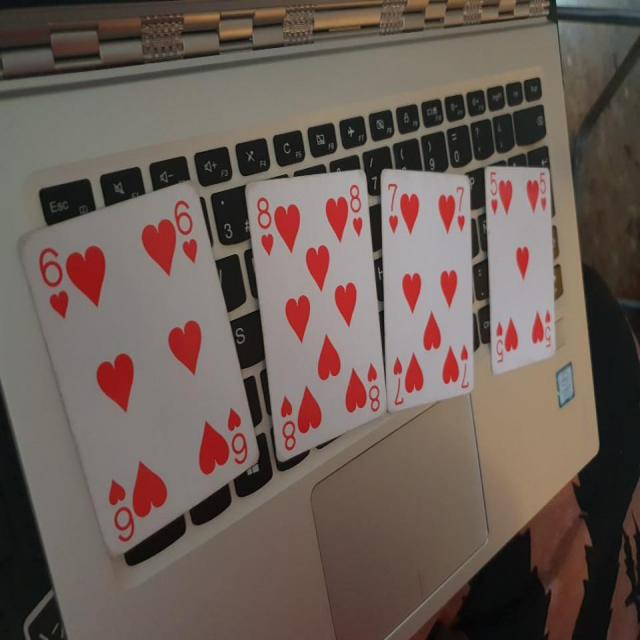5 Hearts: (482, 162, 562, 373)
6 Hearts: (23, 174, 262, 556)
7 Hearts: (375, 163, 478, 416)
8 Hearts: (242, 152, 390, 461)
